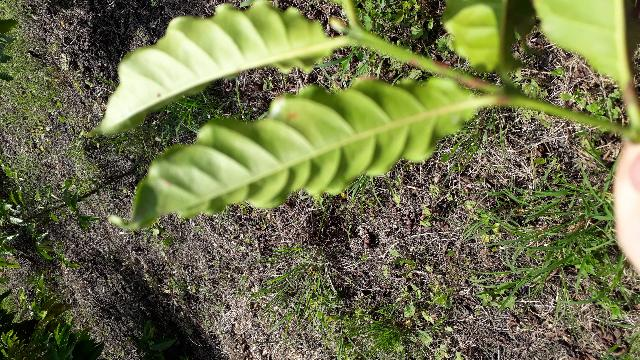red_spider_mite: (159, 131, 532, 282)
